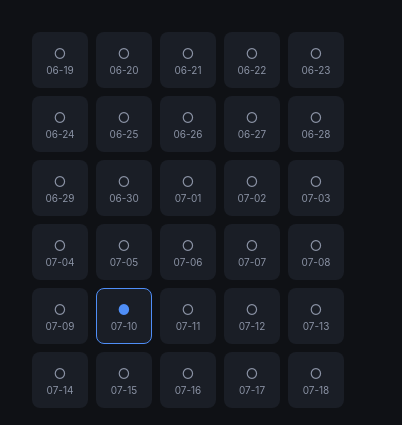
Scenario: ArchiveContainer › shows error when per-day reel fetch fails
The image size is (402, 425).
Click the element with test id "heatmap-cell-2026-07-10" at (124, 316), box 92,284 -> 156,348
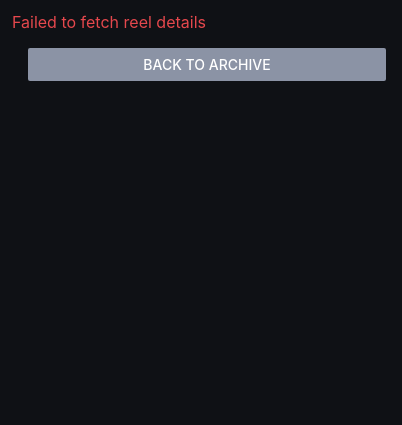
Expected: the text "Failed to fetch reel details" is shown, 12,12 -> 206,32
Expected: the button labelled "Back to archive" is shown, 28,48 -> 386,81
